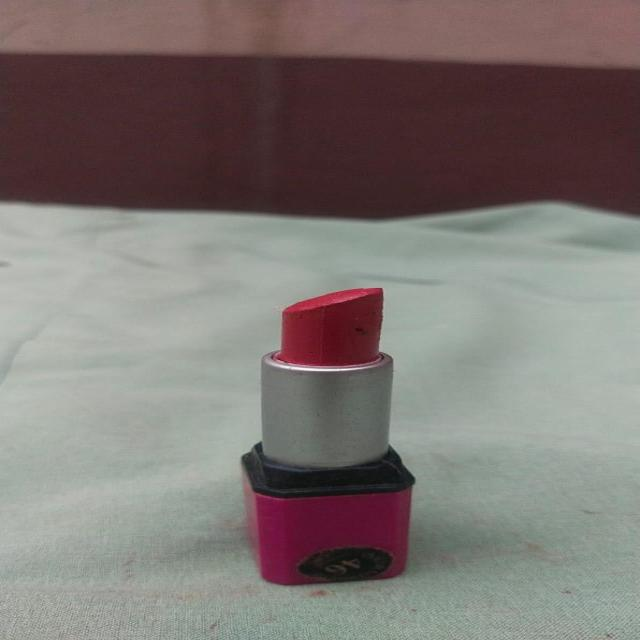lip stick: (216, 259, 471, 605)
